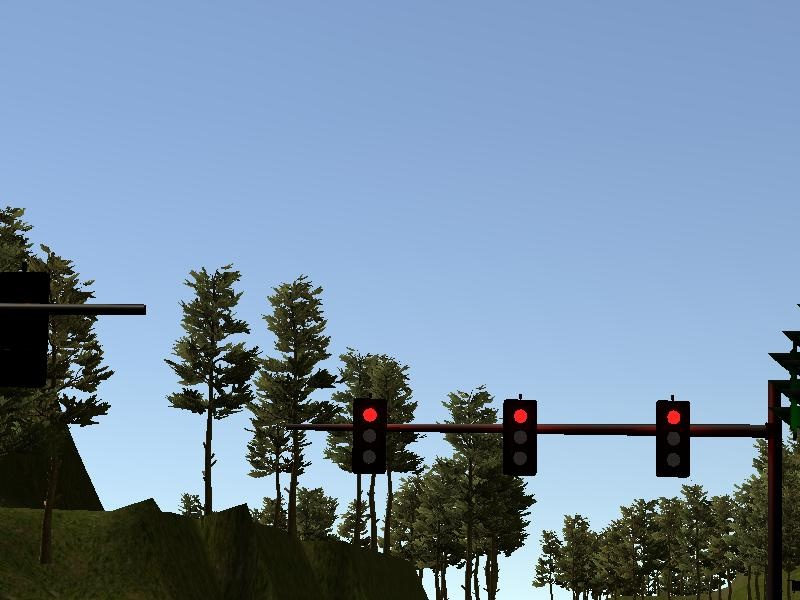Red: (653, 399, 692, 478), (501, 400, 539, 478), (352, 397, 385, 472)
